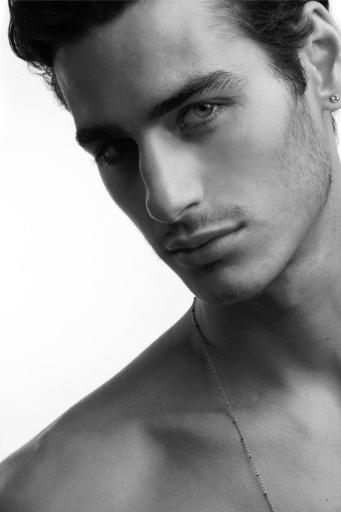left_eye: (174, 96, 233, 132)
left_lip_corner: (228, 215, 255, 244)
right_eye: (97, 142, 130, 170)
right_lip_corner: (162, 248, 177, 259)
